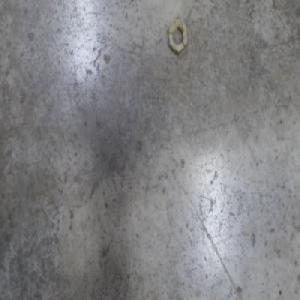Nut: (167, 15, 188, 56)
